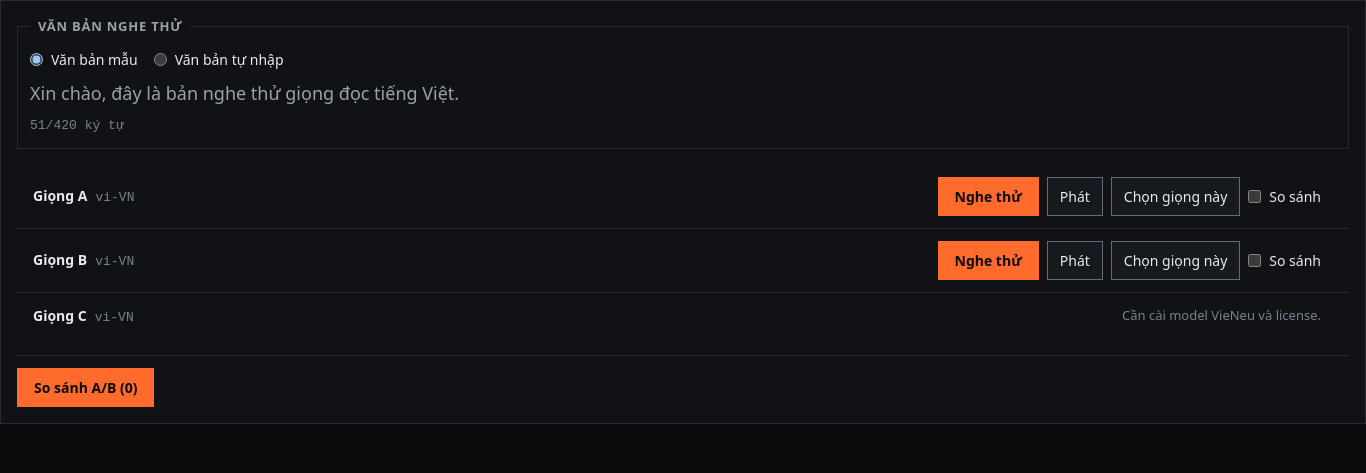
it: VoicePreviewPanel (A02) › theo dõi job đang xếp hàng cho tới khi READY
What coordinates should you click on to do the following:
click the button "Nghe thử" in the row of "Giọng A"
I would click on:
 (988, 196)
Its box is [938, 177, 1039, 216].
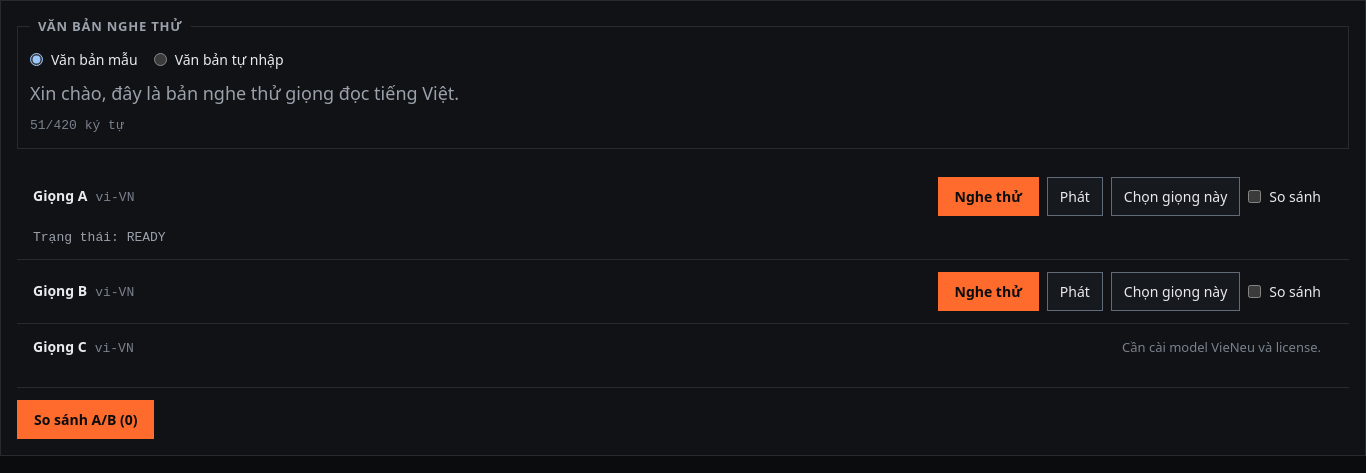
Check: the text "Trạng thái: READY" is shown, box [33, 228, 166, 247]
